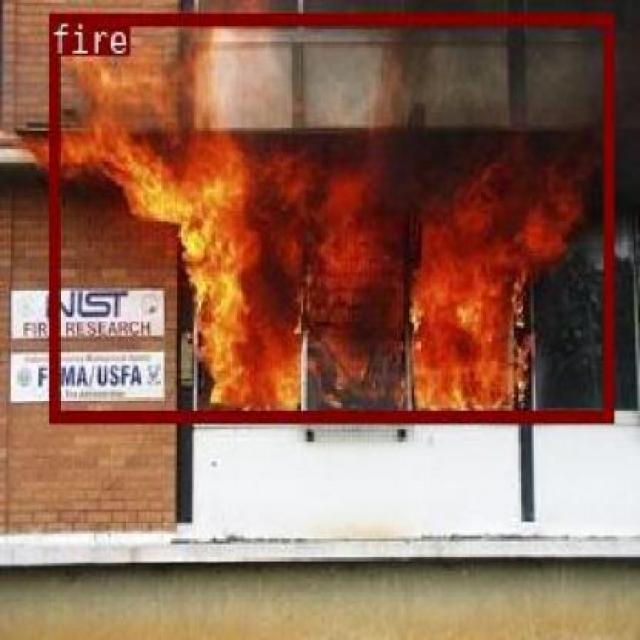Fire: (48, 11, 612, 418)
